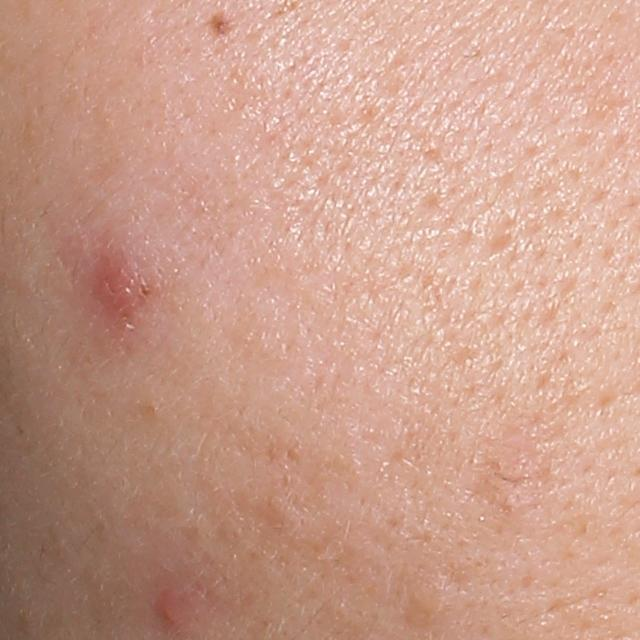atrophic_scar: (482, 231, 519, 263)
nevus: (204, 9, 231, 38)
papule: (71, 219, 170, 358)
